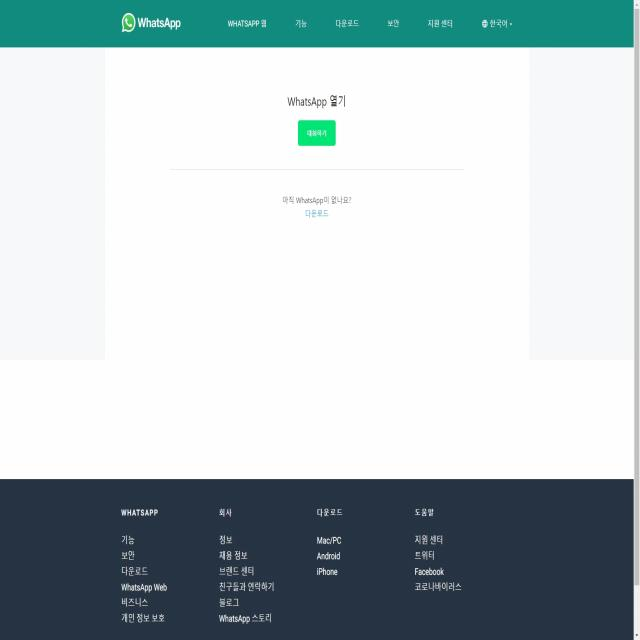menu-bar: (217, 5, 522, 39)
menu-panel: (107, 495, 472, 633)
